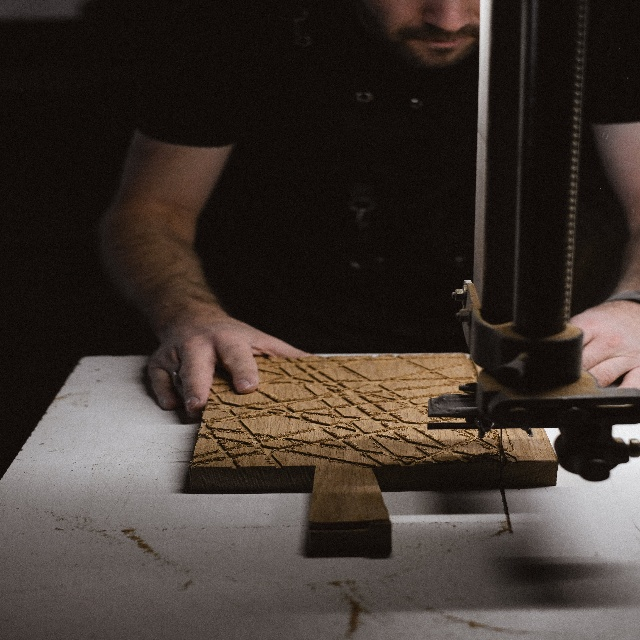Sin_guantes: (147, 299, 315, 420), (565, 298, 640, 391)
